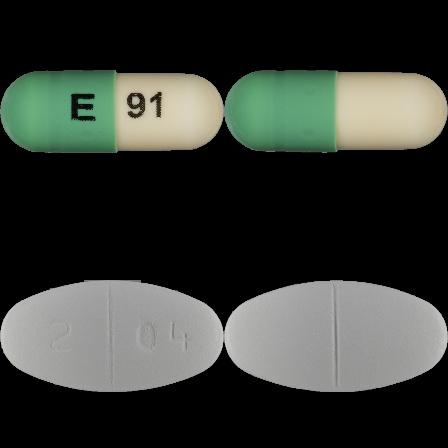21695-053: (0, 0, 224, 224)
